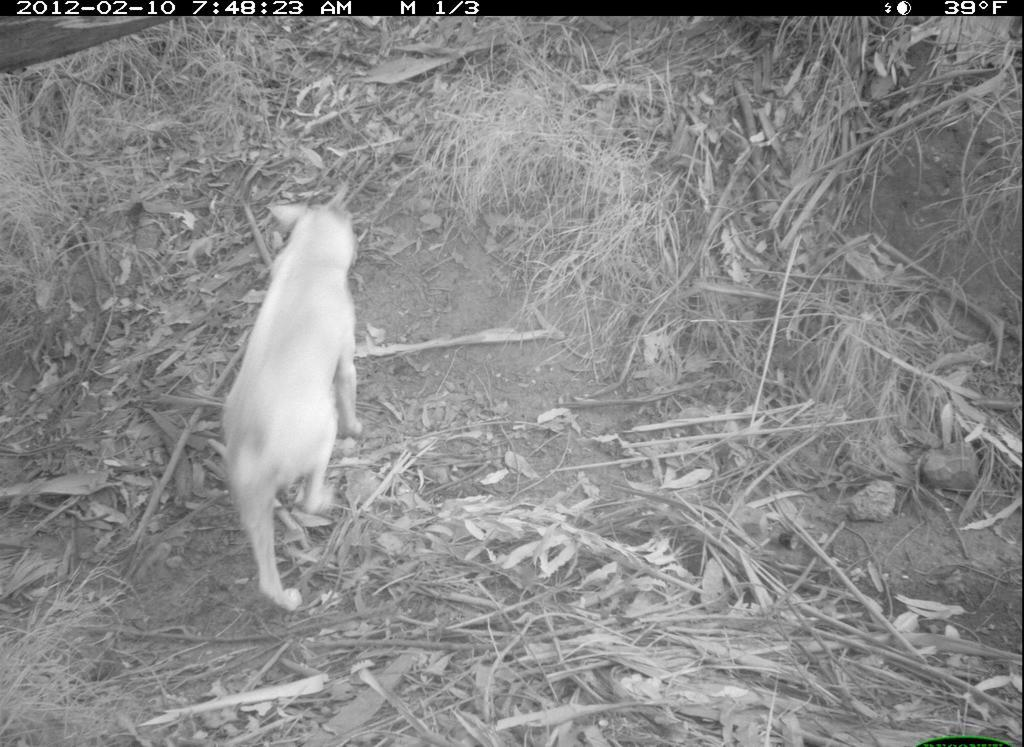dog: (208, 175, 379, 641)
